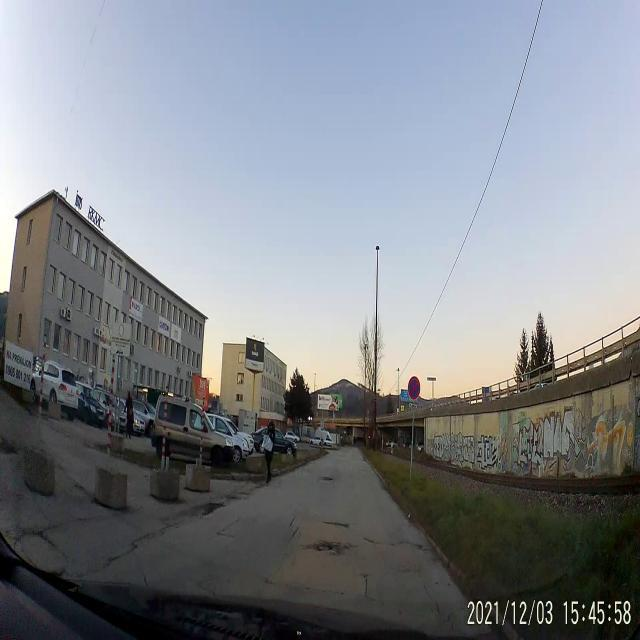Pothole: (306, 536, 349, 561), (321, 518, 352, 534), (410, 539, 430, 559), (318, 473, 334, 486)
